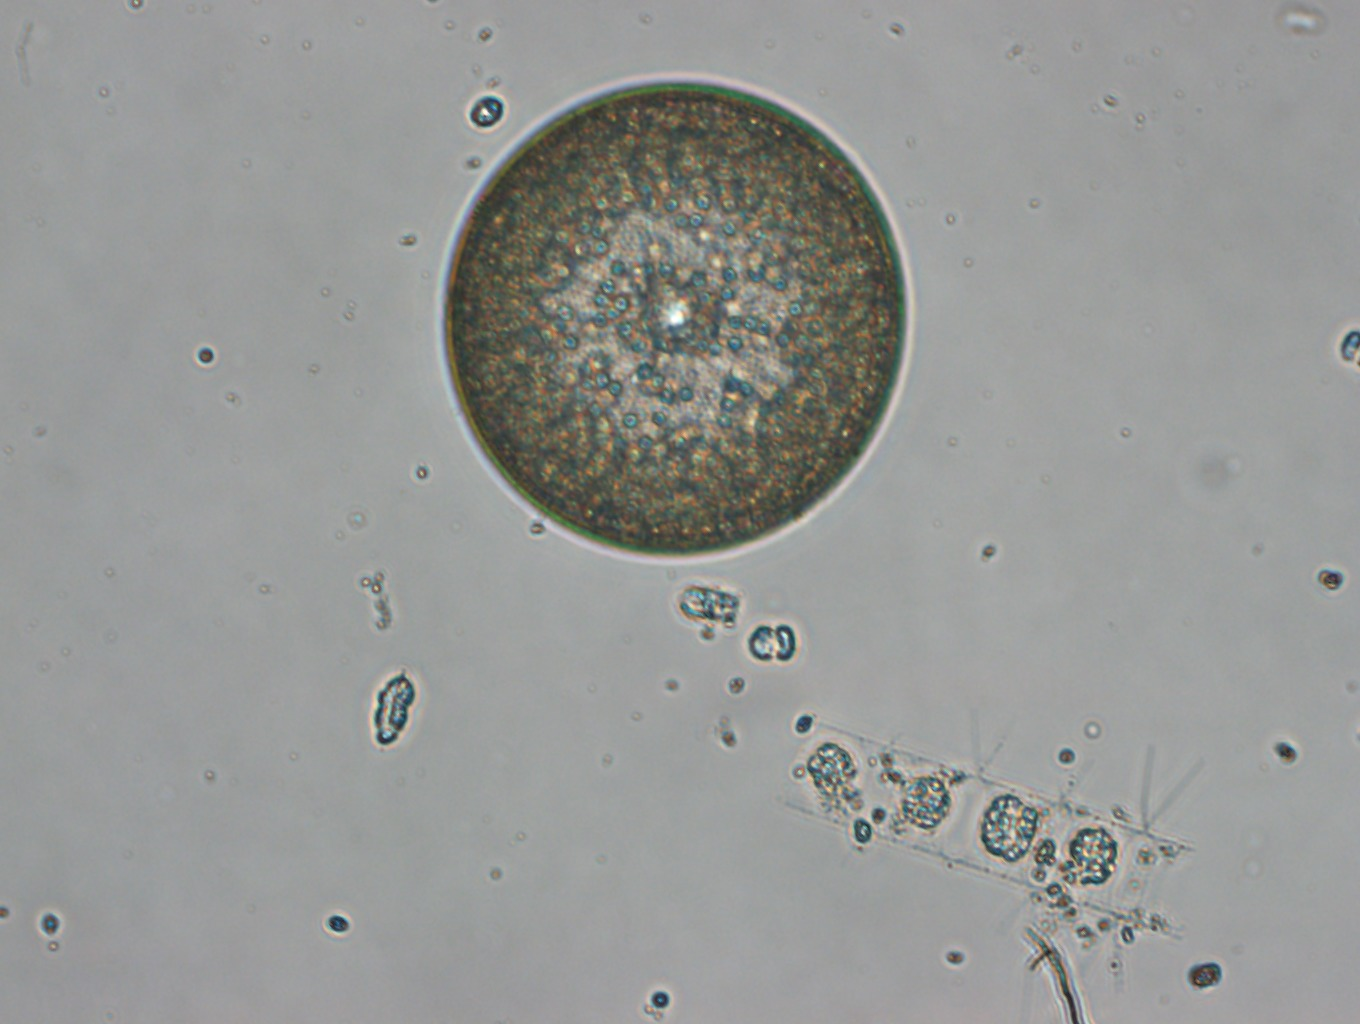chaetoceros: (778, 709, 1197, 991)
coscinodiscus: (440, 76, 912, 561)
